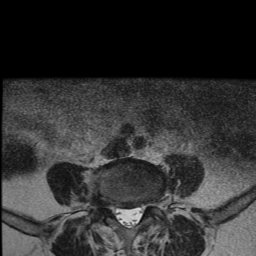CCS_normal: (124, 199, 132, 234)
LFS_severe_stenosis: (143, 193, 152, 216)
LLS_normal: (132, 200, 143, 230)
RFS_severe_stenosis: (103, 189, 115, 216)
RLS_normal: (115, 198, 124, 229)
